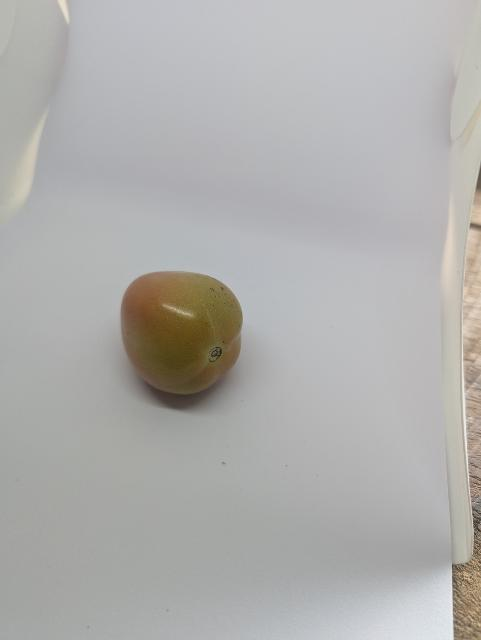breaker: (116, 262, 256, 403)
